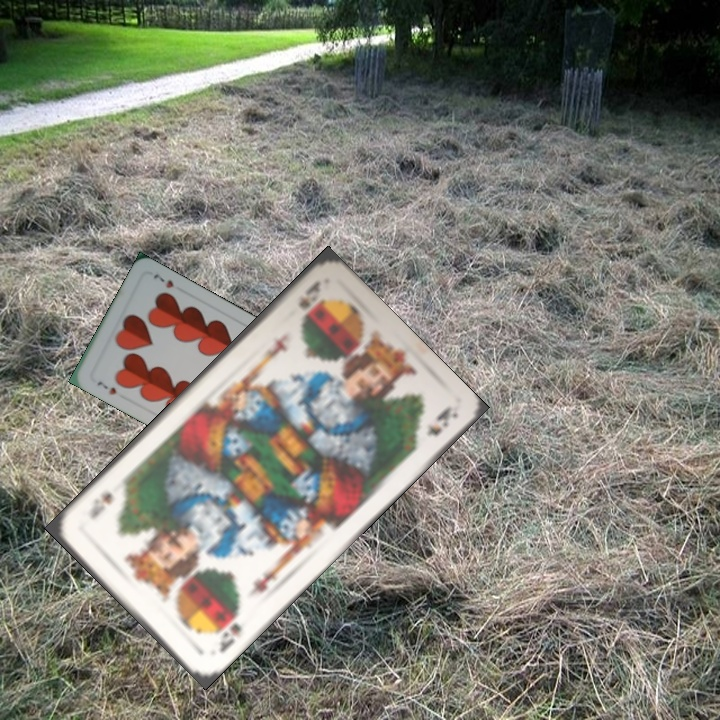H7: (93, 377, 119, 397)
SK: (214, 619, 244, 655), (294, 276, 324, 312)
